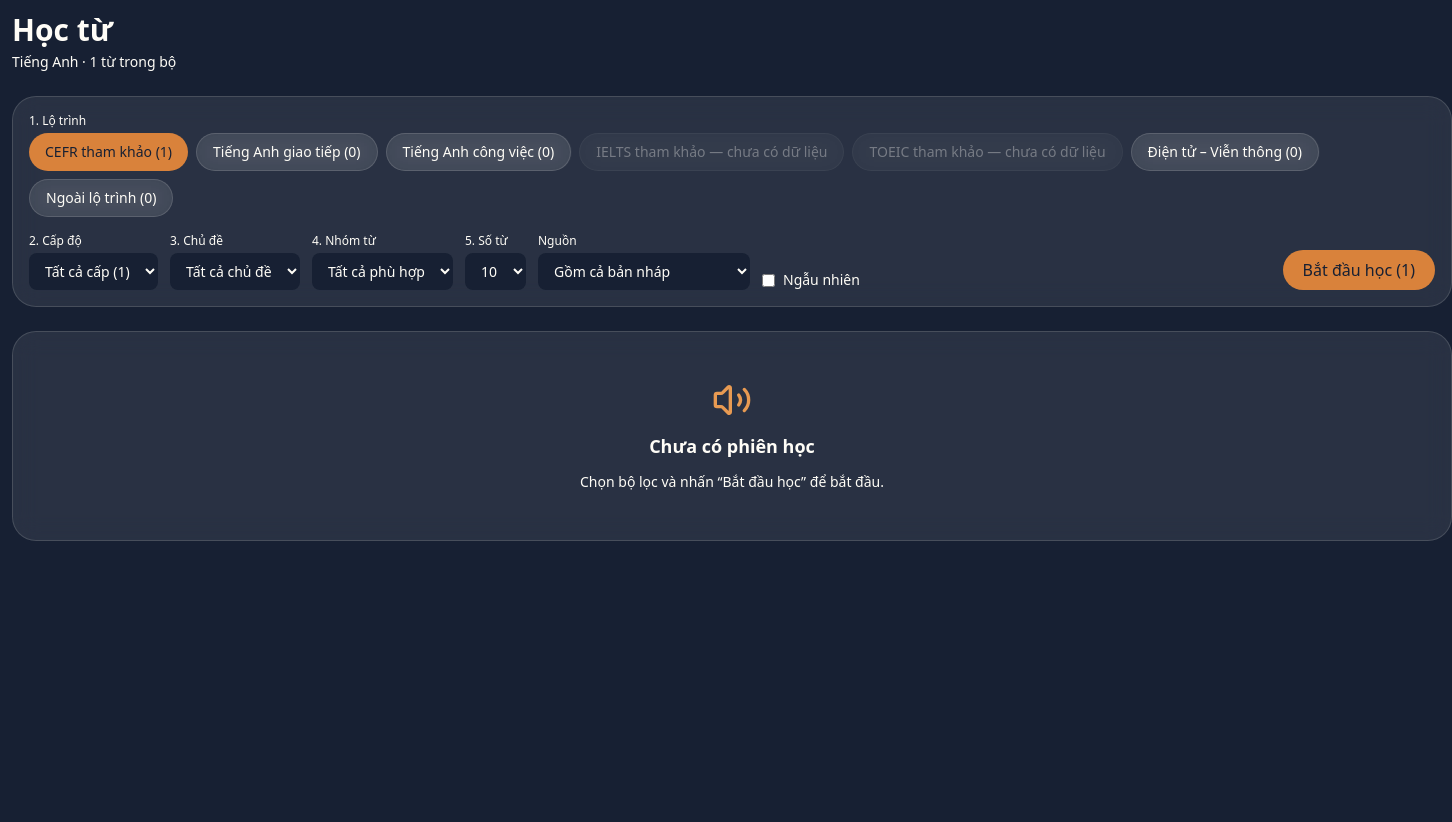
Test case: LearningPage — hoàn thành phiên (P0.1) › phiên 1 thẻ: đánh giá thẻ cuối chuyển sang màn hoàn thành
The image size is (1452, 822).
Click the button "Bắt đầu học (1)": (1359, 270) [1283,250,1435,290]
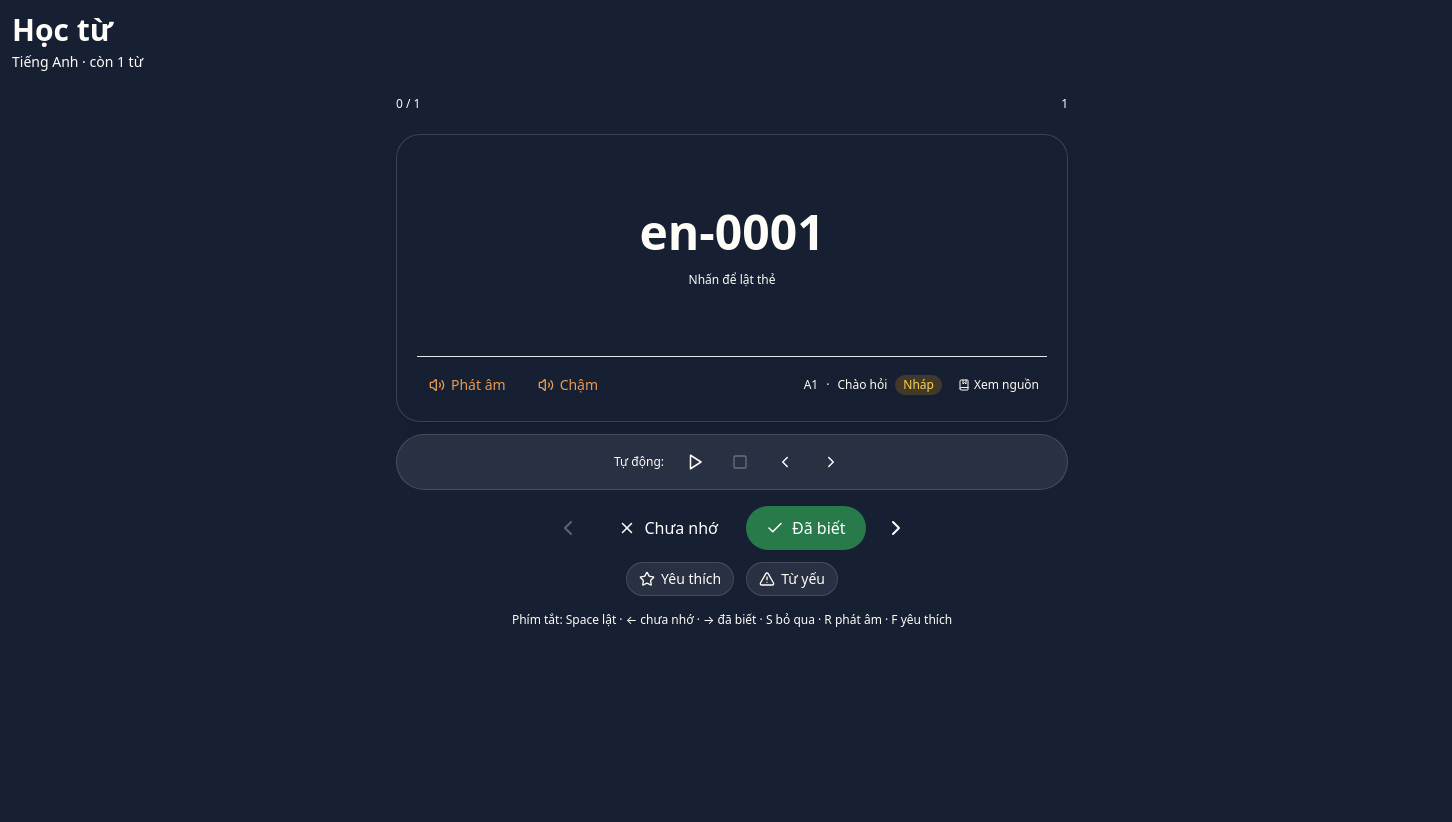
Result: the text "en-0001" is shown at [639,208,825,256]
Click the button "Đã biết": (806, 528) [746,506,866,550]
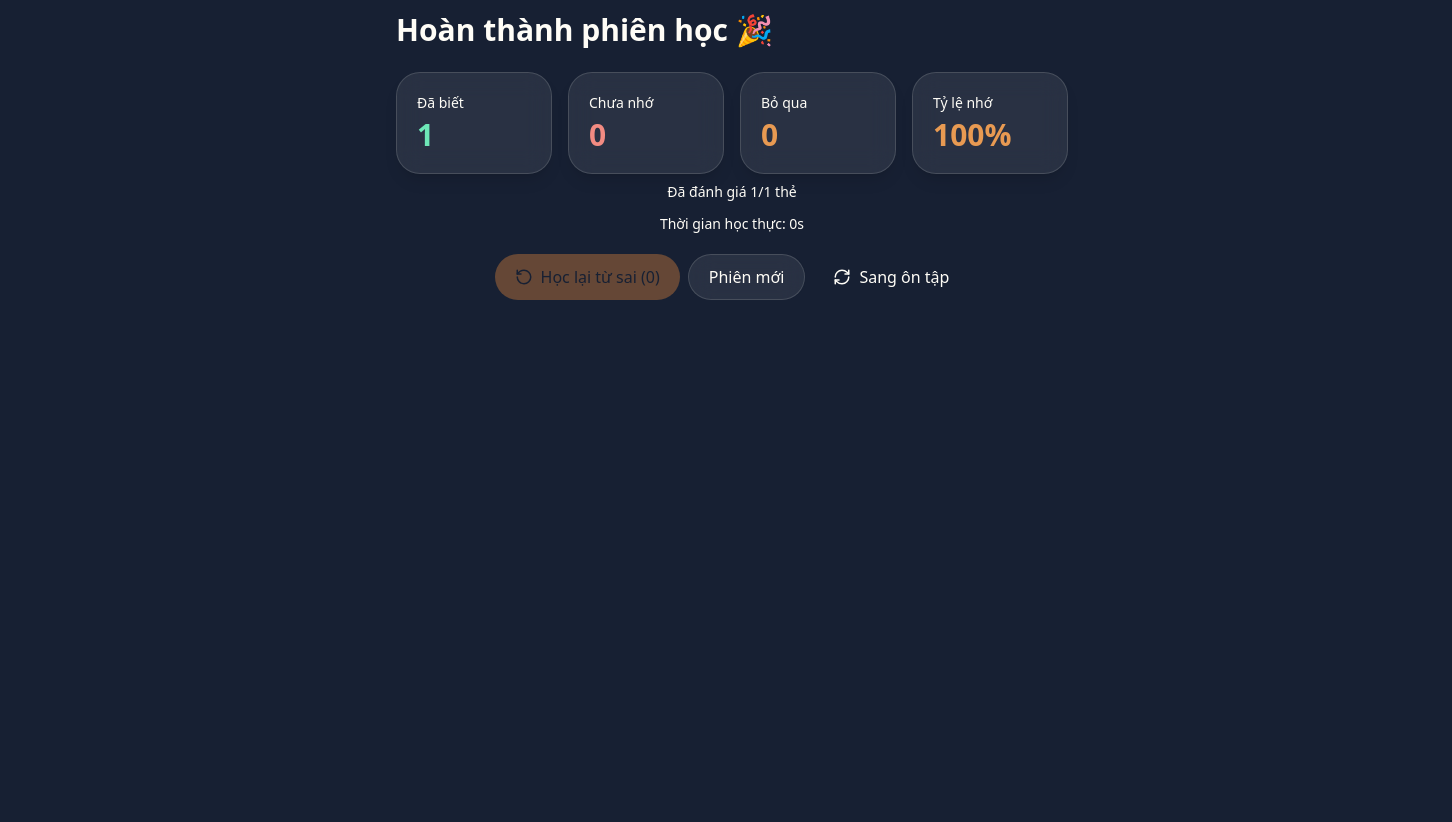
Result: the button "en-0001" is gone
